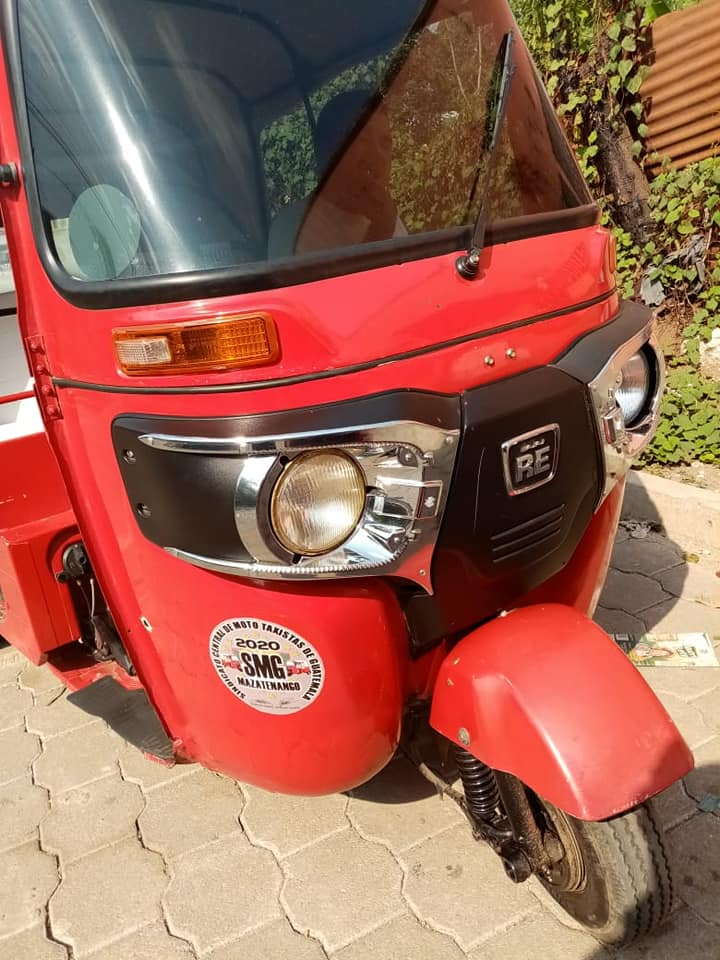mototaxi: (8, 3, 691, 930)
